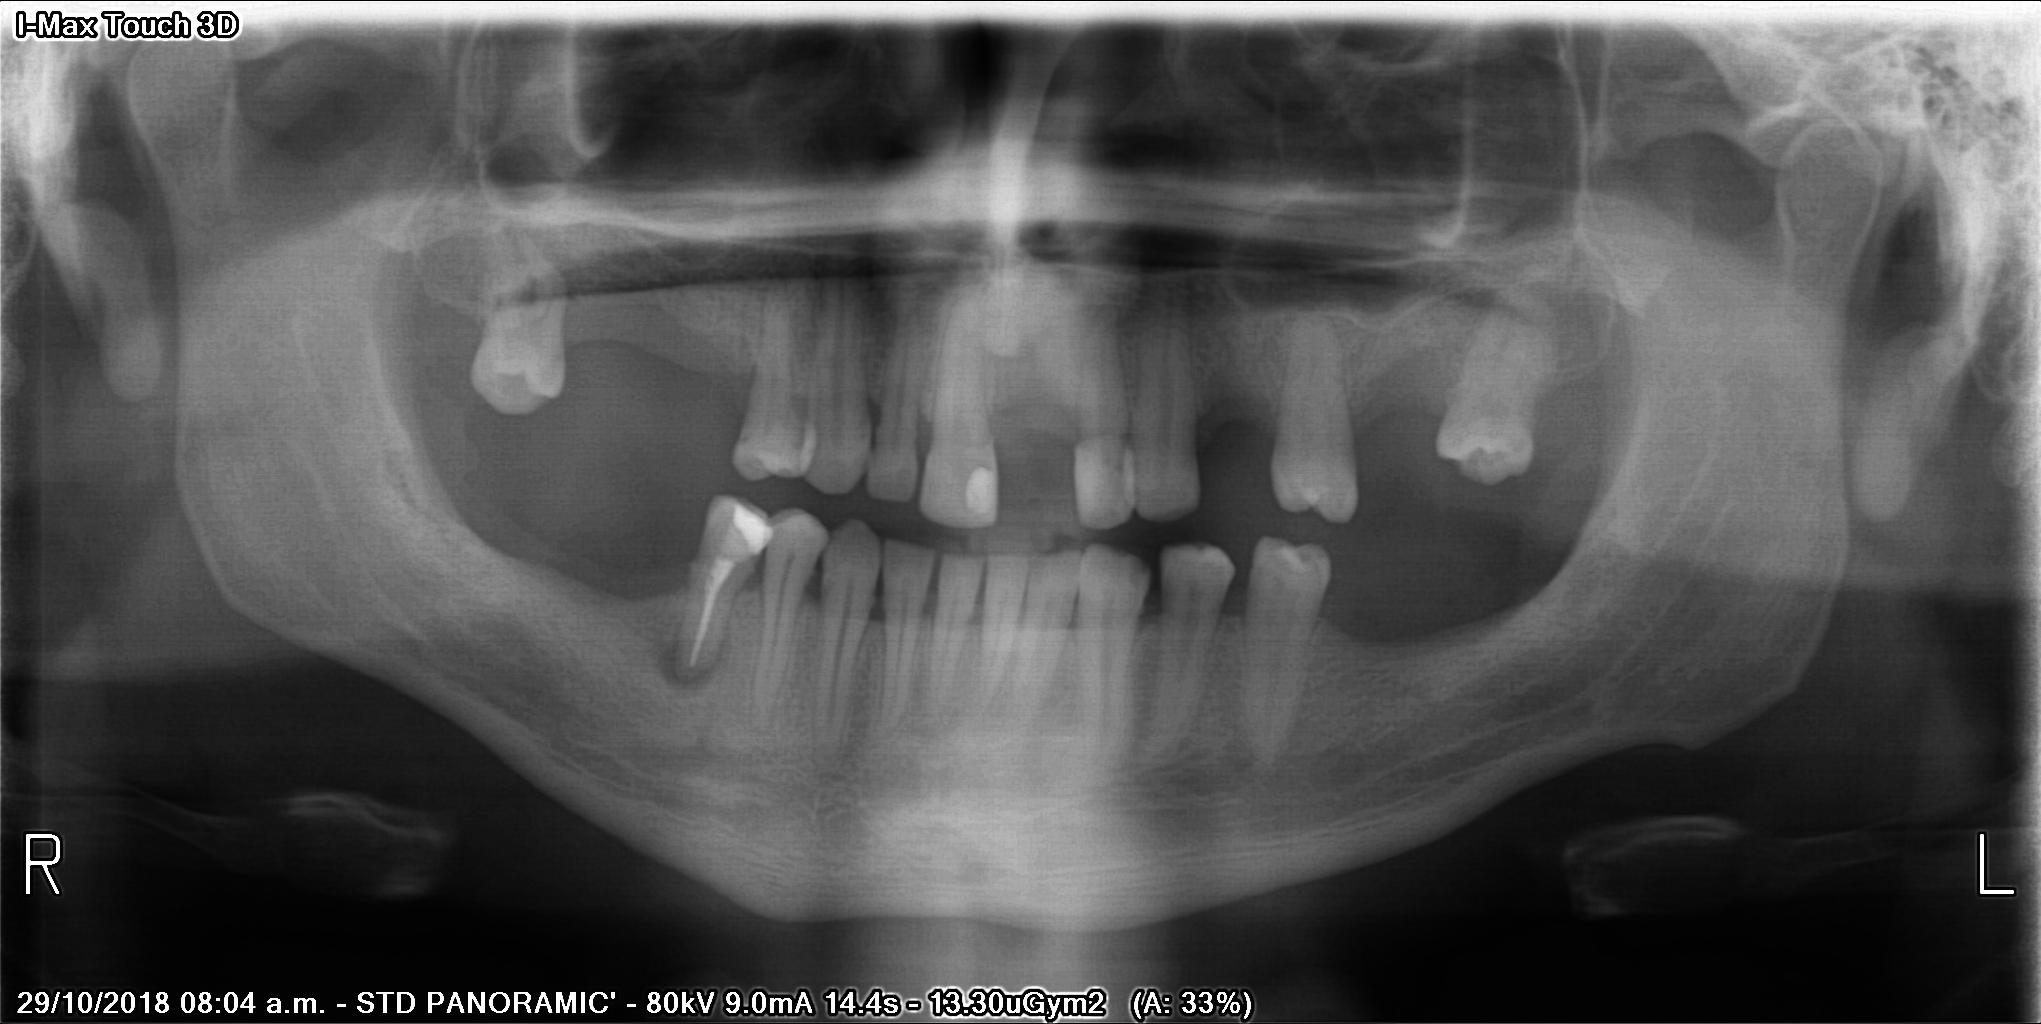Çürük: (710, 496, 772, 578), (960, 466, 1002, 520)
